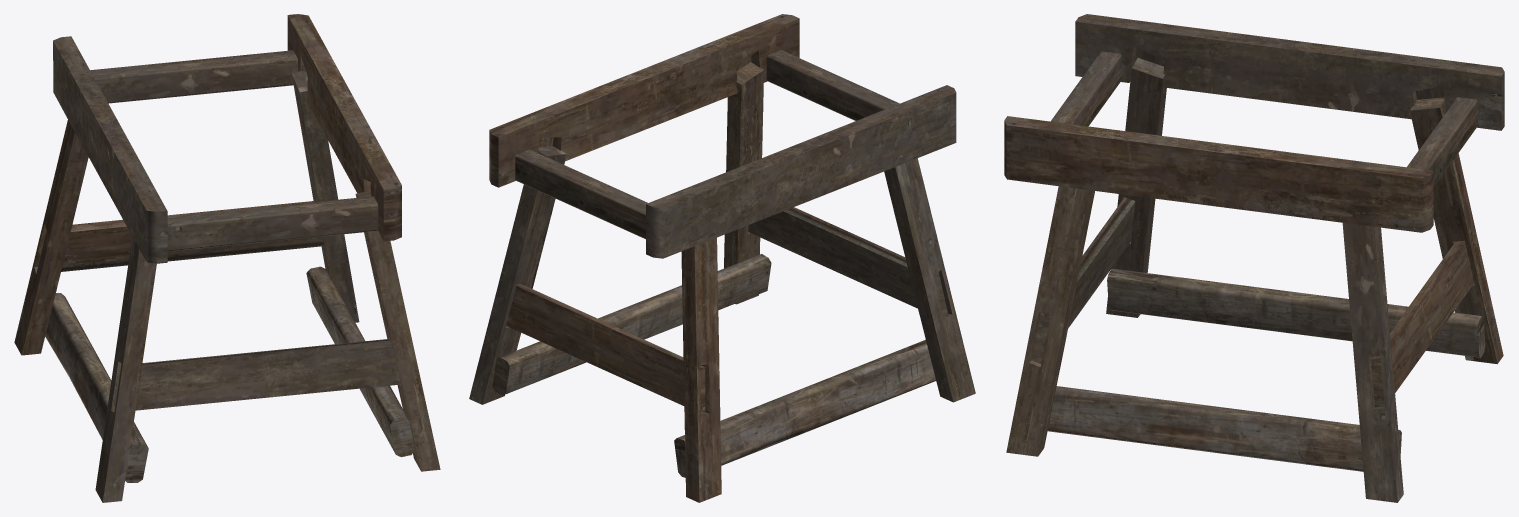
The model's file is Table_03.glb.
The picture shows the model from 3 angles, left to right: view 1: azimuth 30°, elevation 25°; view 2: azimuth 150°, elevation 25°; view 3: azimuth 270°, elevation 25°; orthographic projection. The views are drawn at different scales.
Parts seen in each view (by area): view 1: SM_Table_03; view 2: SM_Table_03; view 3: SM_Table_03.
Boxes of the visible parts, x1=… form: SM_Table_03: x1=14, y1=14, x2=440, y2=502; SM_Table_03: x1=469, y1=14, x2=975, y2=502; SM_Table_03: x1=1004, y1=14, x2=1504, y2=502.
Bounding box in the file's own units: 1.25 × 0.9104 × 1.34.
1 material, 1 textured.
